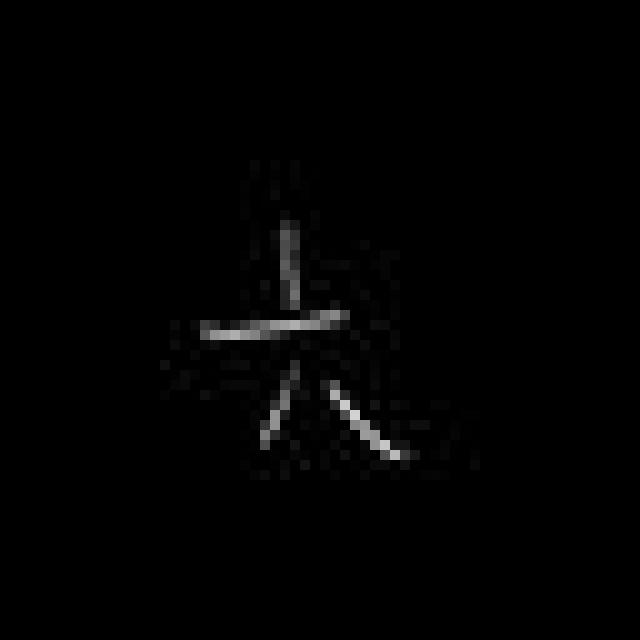6 -six-: (190, 220, 407, 482)
